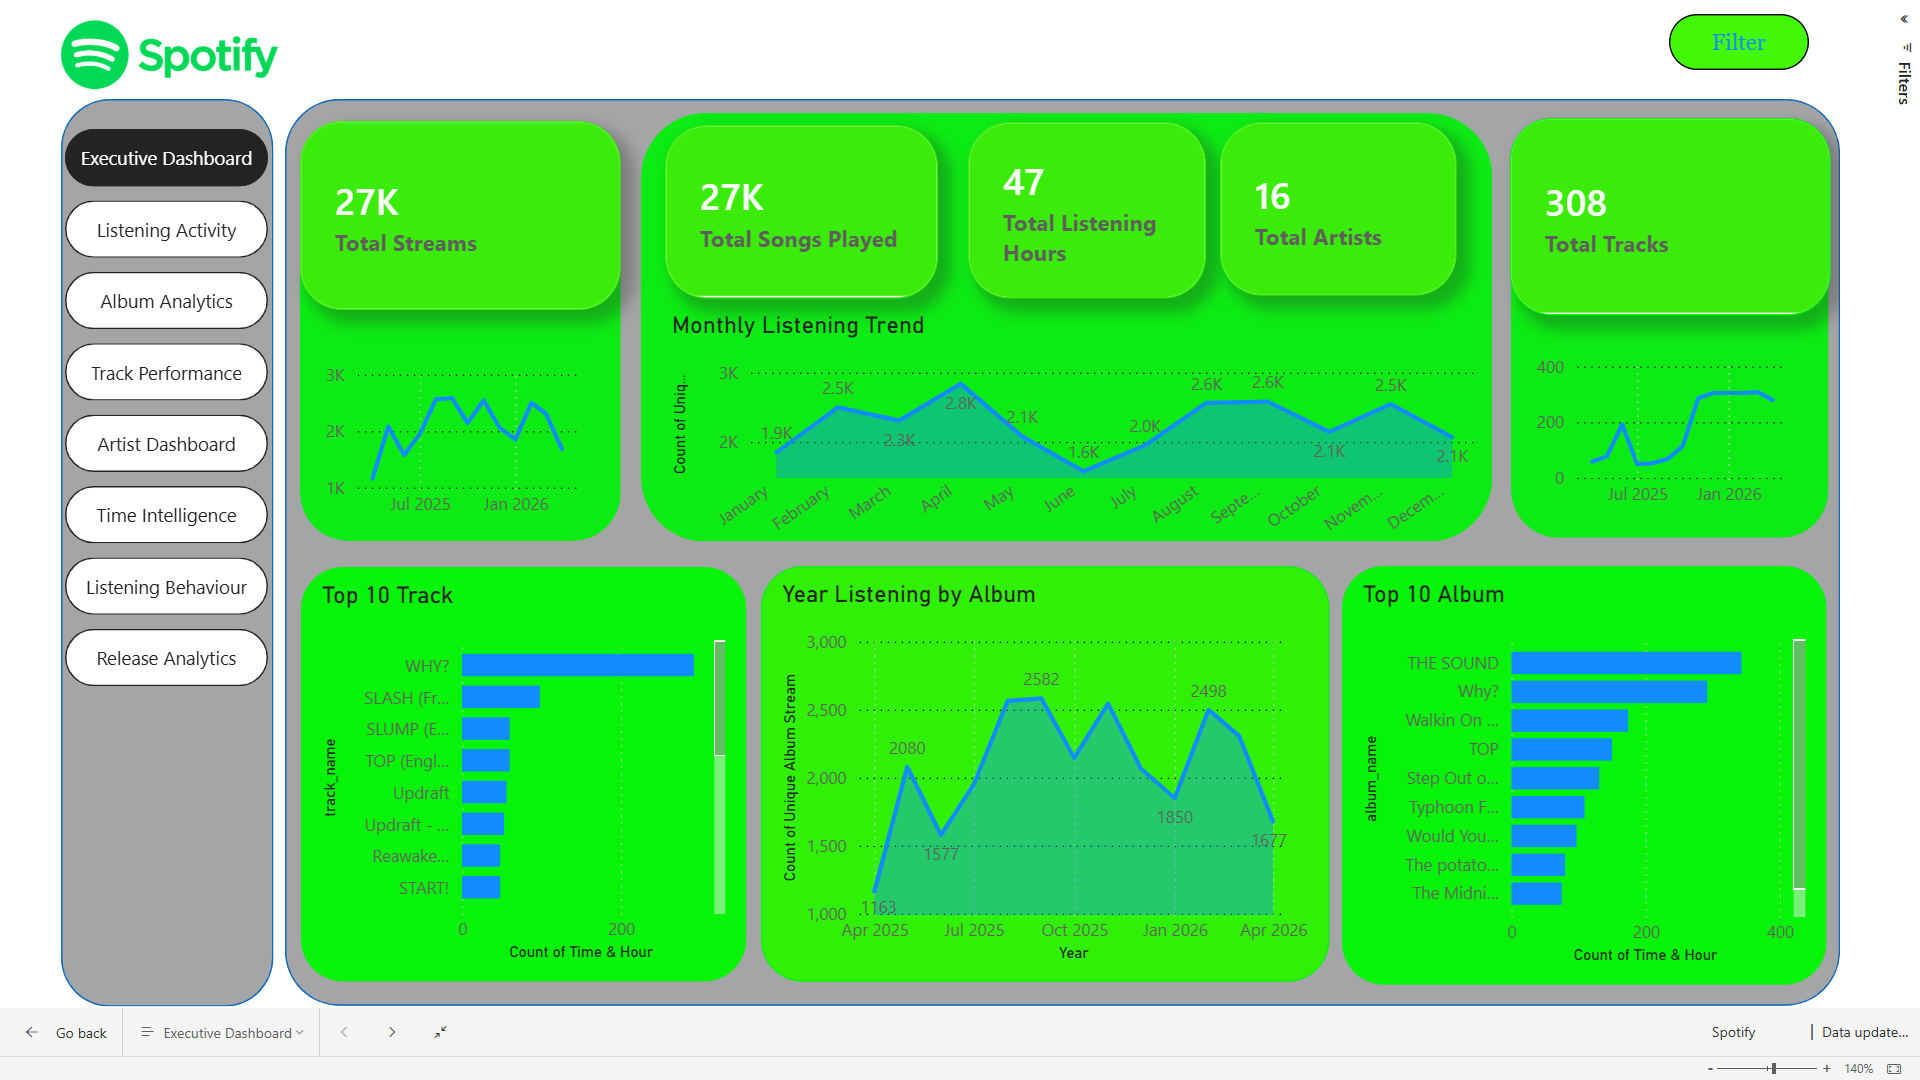

Layout of this report page (visuals, bound fields, positions):
{"tool":"powerbi","page":{"name":"Executive Dashboard","canvas":[1280,720],"ordinal":0},"visuals":[{"type":"image","title":"Brand Name","box":[8.2,3.6,158.2,70.9],"z":0},{"type":"shape","box":[169.4,70.6,1110.7,647.6],"z":0,"group":"g1"},{"type":"shape","box":[9,70.7,151.7,648.4],"z":0,"group":"g3"},{"type":"shape","box":[424,80.7,608.2,306.3],"z":0,"group":"g4"},{"type":"shape","box":[180.4,86.6,229.2,300],"z":0,"group":"g2"},{"type":"shape","box":[1044.9,89.8,226.9,294.2],"z":0,"group":"g5"},{"type":"group","id":"g1","title":"Main","box":[169.4,70.6,1110.7,647.6],"z":1000},{"type":"cardVisual","fields":{"Data":["Custome Measure.Total Tracks"]},"box":[1044.2,84,229.2,140.6],"z":1000,"group":"g5"},{"type":"cardVisual","fields":{"Data":["Custome Measure.Total Streams"]},"box":[180.4,86.6,229.2,135.3],"z":1000,"group":"g2"},{"type":"cardVisual","fields":{"Data":["Custome Measure.Total Songs Played"]},"box":[441,89,195.2,123.6],"z":1000,"group":"g4"},{"type":"pageNavigator","box":[11.7,92.2,146,403],"z":1000,"group":"g3"},{"type":"barChart","title":"Top 10 Album","fields":{"Category":["spotify_skz_streaming.album_name"],"Y":["CountNonNull(spotify_skz_streaming.Time & Hour)"]},"box":[924.1,403.9,345.6,298.8],"z":1000,"group":"g1"},{"type":"group","id":"g2","title":"Group 1","box":[180.4,86.6,229,299.9],"z":2000,"group":"g1"},{"type":"cardVisual","fields":{"Data":["Custome Measure.Total Listening Hours"]},"box":[657.7,87.2,170.1,126.3],"z":2000,"group":"g4"},{"type":"lineChart","fields":{"Category":["spotify_skz_streaming.end_time.Variation.Date Hierarchy.Year","spotify_skz_streaming.end_time.Variation.Date Hierarchy.Month"],"Y":["Custome Measure.Total Tracks"]},"box":[1057.9,247.8,203.3,123.4],"z":2000,"group":"g5"},{"type":"lineChart","fields":{"Category":["spotify_skz_streaming.end_time.Variation.Date Hierarchy.Year","spotify_skz_streaming.end_time.Variation.Date Hierarchy.Month"],"Y":["Custome Measure.Total Streams"]},"box":[193.3,253.7,203.3,124.7],"z":2000,"group":"g2"},{"type":"actionButton","title":"Filter","box":[1158,9.8,100,40],"z":3000},{"type":"cardVisual","fields":{"Data":["Custome Measure.Total Artists"]},"box":[837.7,87.2,169.3,124.5],"z":3000,"group":"g4"},{"type":"areaChart","title":"Year Listening by Album","fields":{"Category":["spotify_skz_streaming.end_time.Variation.Date Hierarchy.Year","spotify_skz_streaming.end_time.Variation.Date Hierarchy.Month"],"Y":["CountNonNull(spotify_skz_streaming.Unique Album Stream)"]},"box":[509.5,403.9,405.7,297.3],"z":3000,"group":"g1"},{"type":"group","id":"g3","title":"Navigation","box":[9,70.7,151.7,648.4],"z":4000},{"type":"areaChart","title":"Monthly Listening Trend","fields":{"Category":["spotify_skz_streaming.end_time.Variation.Date Hierarchy.Month"],"Y":["CountNonNull(spotify_skz_streaming.Unique Album Stream)"]},"box":[441,222.4,584.8,170.3],"z":4000,"group":"g4"},{"type":"barChart","title":"Top 10 Track","fields":{"Category":["spotify_skz_streaming.track_name"],"Y":["CountNonNull(spotify_skz_streaming.Time & Hour)"]},"box":[181.1,404.6,318.2,295.9],"z":4000,"group":"g1"},{"type":"group","id":"g4","title":"Group 2","box":[424,80.7,608.2,312],"z":5000,"group":"g1"},{"type":"group","id":"g5","title":"Group 3","box":[1044.2,84,229.2,300],"z":6000,"group":"g1"}]}

Visuals, with their boxes on the page's 1280x720 design canvas (x1, y1, x2, y2). These are canvas units, not pixel positions in the 1920x1080 screenshot, which may show the page scaled, cropped or inside an application window:
"Brand Name" image: box(8, 4, 166, 74)
shape: box(169, 71, 1280, 718)
shape: box(9, 71, 161, 719)
shape: box(424, 81, 1032, 387)
shape: box(180, 87, 410, 387)
shape: box(1045, 90, 1272, 384)
"Main" group: box(169, 71, 1280, 718)
cardVisual - Custome Measure.Total Tracks: box(1044, 84, 1273, 225)
cardVisual - Custome Measure.Total Streams: box(180, 87, 410, 222)
cardVisual - Custome Measure.Total Songs Played: box(441, 89, 636, 213)
pageNavigator: box(12, 92, 158, 495)
"Top 10 Album" barChart: box(924, 404, 1270, 703)
"Group 1" group: box(180, 87, 409, 386)
cardVisual - Custome Measure.Total Listening Hours: box(658, 87, 828, 214)
lineChart - spotify_skz_streaming.end_time.Variation.Date Hierarchy.Year x spotify_skz_streaming.end_time.Variation.Date Hierarchy.Month: box(1058, 248, 1261, 371)
lineChart - spotify_skz_streaming.end_time.Variation.Date Hierarchy.Year x spotify_skz_streaming.end_time.Variation.Date Hierarchy.Month: box(193, 254, 397, 378)
"Filter" actionButton: box(1158, 10, 1258, 50)
cardVisual - Custome Measure.Total Artists: box(838, 87, 1007, 212)
"Year Listening by Album" areaChart: box(510, 404, 915, 701)
"Navigation" group: box(9, 71, 161, 719)
"Monthly Listening Trend" areaChart: box(441, 222, 1026, 393)
"Top 10 Track" barChart: box(181, 405, 499, 700)
"Group 2" group: box(424, 81, 1032, 393)
"Group 3" group: box(1044, 84, 1273, 384)
